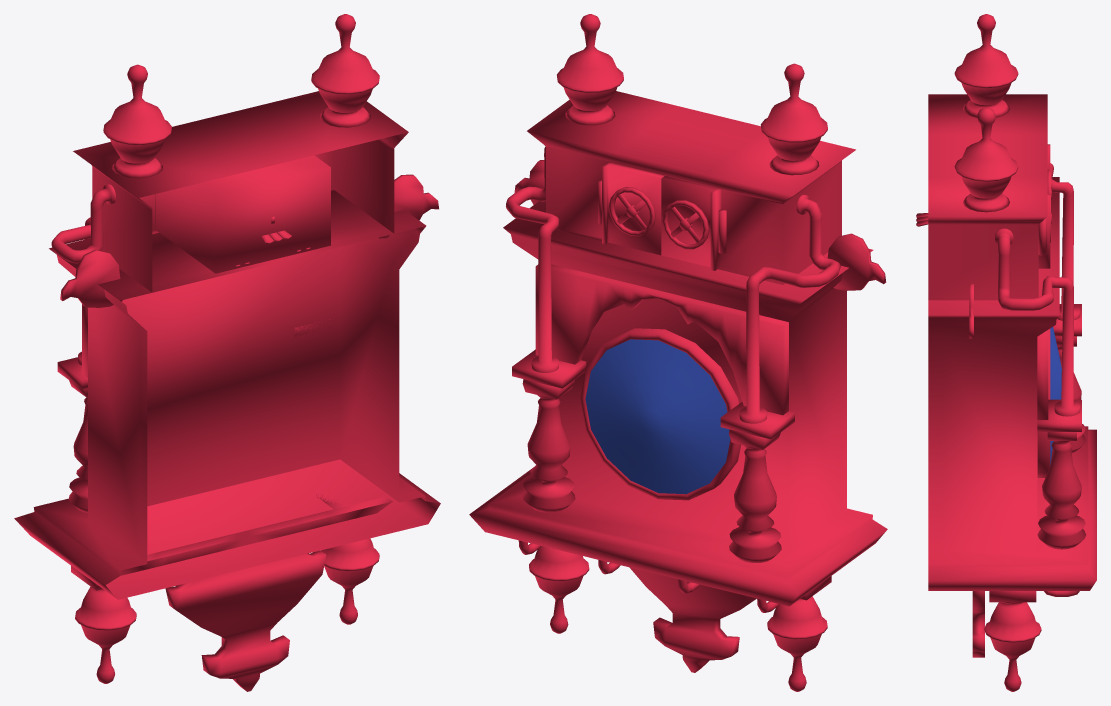
File: M_Horloge_Coucou.fbx
3 renders of one model, left to right at view 1: azimuth 30°, elevation 25°; view 2: azimuth 150°, elevation 25°; view 3: azimuth 270°, elevation 25°, orthographic. The views are drawn at different scales.
Parts seen in each view (by area): view 1: Horloge_Coucou_Bloc; view 2: Horloge_Coucou_Bloc, Cadran_Verre, Porte_Gauche, Porte_Droite, Engrenage_Gauche, Engrenage_Droit; view 3: Horloge_Coucou_Bloc, Cadran_Verre, Porte_Gauche.
Part boxes in pixels (x1,y1,x2,y2): Horloge_Coucou_Bloc: (14, 14, 440, 691); Horloge_Coucou_Bloc: (469, 14, 887, 691); Cadran_Verre: (585, 339, 730, 494); Porte_Gauche: (602, 162, 664, 255); Porte_Droite: (661, 176, 721, 270); Engrenage_Gauche: (608, 187, 655, 236); Engrenage_Droit: (662, 200, 709, 249); Horloge_Coucou_Bloc: (928, 14, 1096, 691); Cadran_Verre: (1050, 327, 1061, 465); Porte_Gauche: (1038, 194, 1050, 268).
Bounding box in the file's own units: 72.19 × 118 × 32.57.
